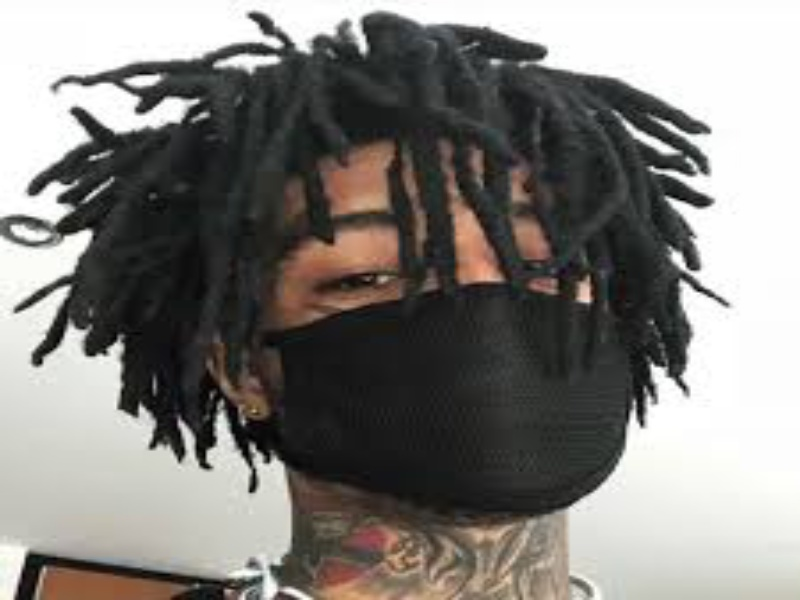TsisyArotava: (120, 53, 752, 544)
